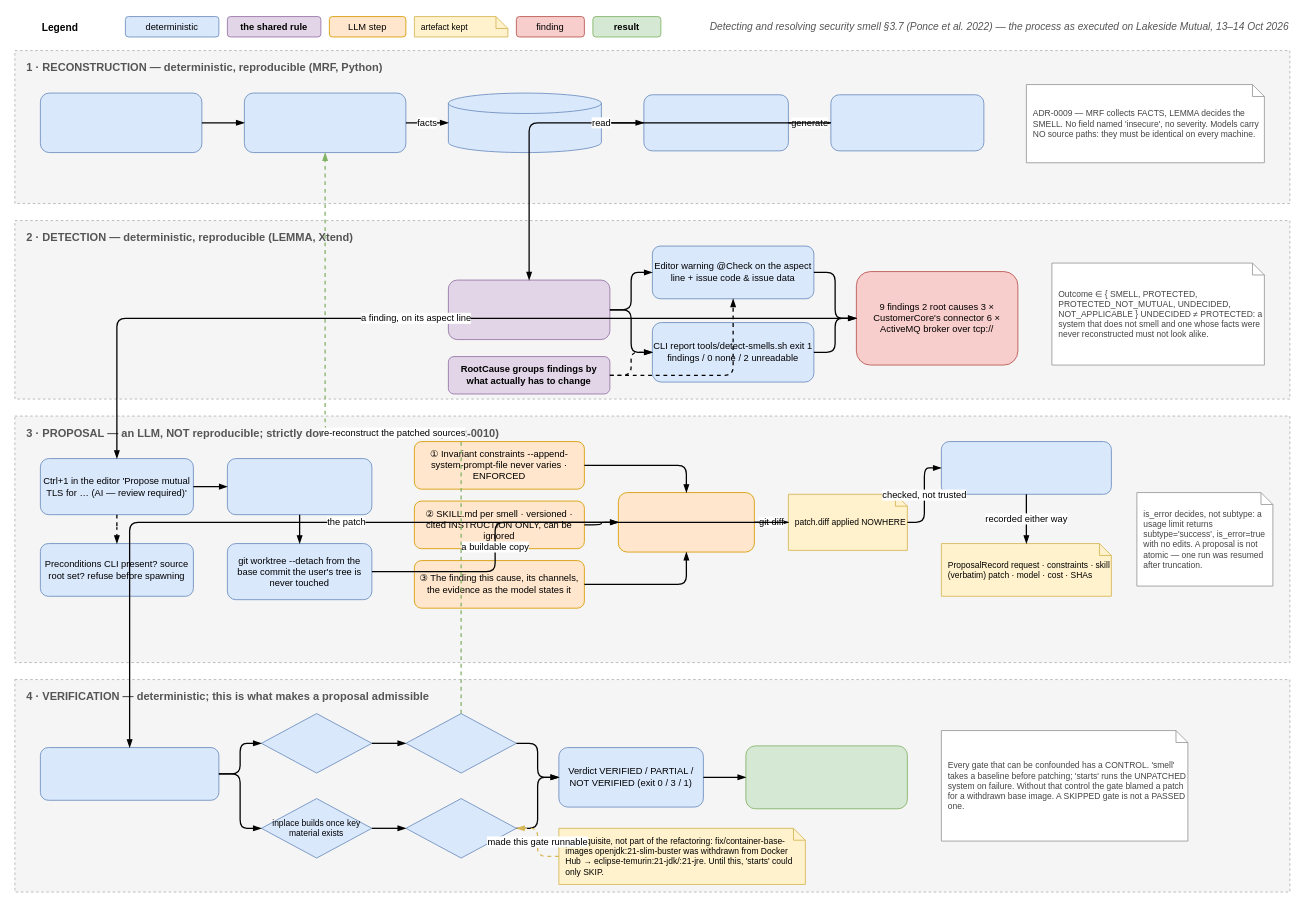
This 1305x907 diagram has some shape labels left out. Each missing label, with the centre of its shape:
9 → 0 findings VERIFIED 4 passed, 0 failed, 0 skipped: the point at 826,777
Background Job apply() is on the UI thread; a proposal takes 13–25 min: the point at 299,486
ChannelVerdict the one shared rule plain values in, verdict out: the point at 529,309
claude CLI -p · acceptEdits scoped to the worktree: the point at 686,522
clean builds from a clean checkout: the point at 316,743
LEMMA Model Extractor reconstruct.sh: the point at 715,122
LEMMA models *.data · *.services · *.operation: the point at 907,122
MongoDB mrf context · microservice · operation: the point at 524,122
MRF plugins Java · Spring · Communication Docker · Protobuf · Node: the point at 325,122
PatchGuard no model edits · no weakened verification · added code lines only: the point at 1026,467
smell finding count FELL: the point at 460,743
Source system Lakeside Mutual @357ca2d Spring Boot 3.3.4 · Java 21 · Node: the point at 121,122
starts the system comes up: the point at 460,828
tools/verify-refactoring.sh --base · --plugins · --build-command: the point at 129,773
